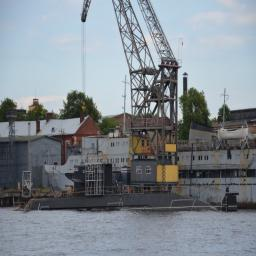submarine: (25, 164, 220, 212)
